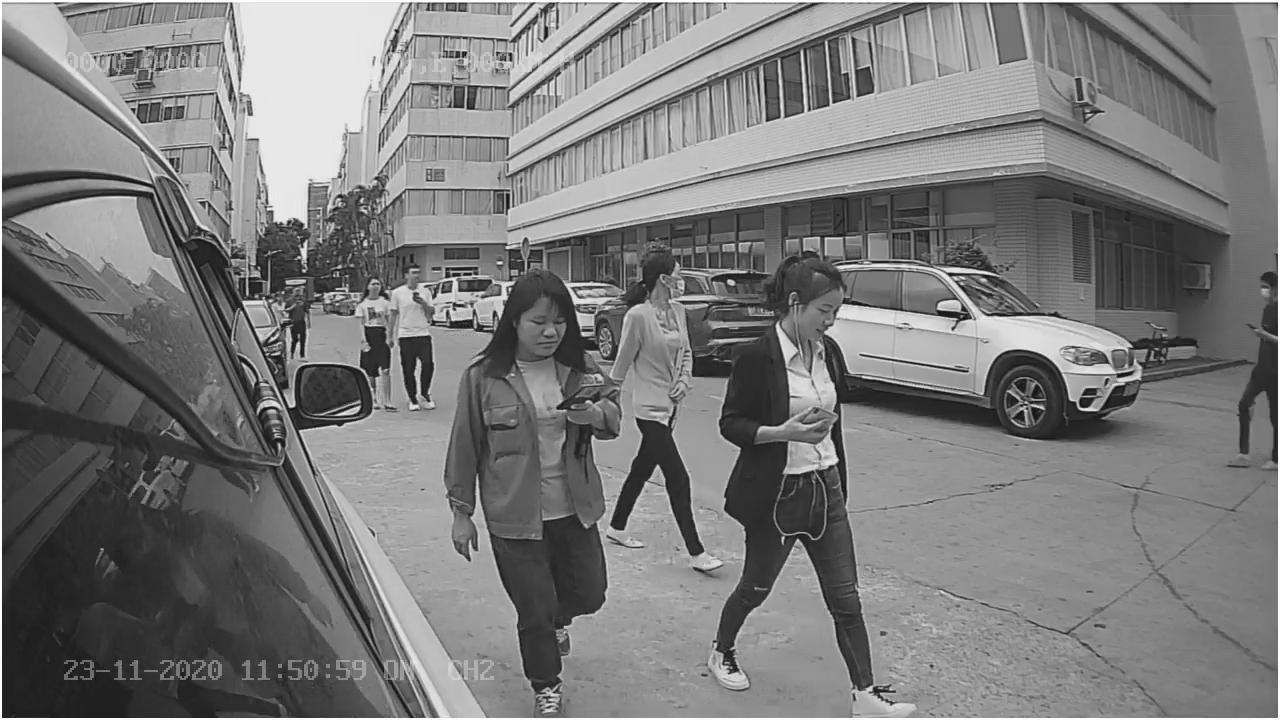person: (708, 249, 923, 714), (386, 255, 442, 413)
